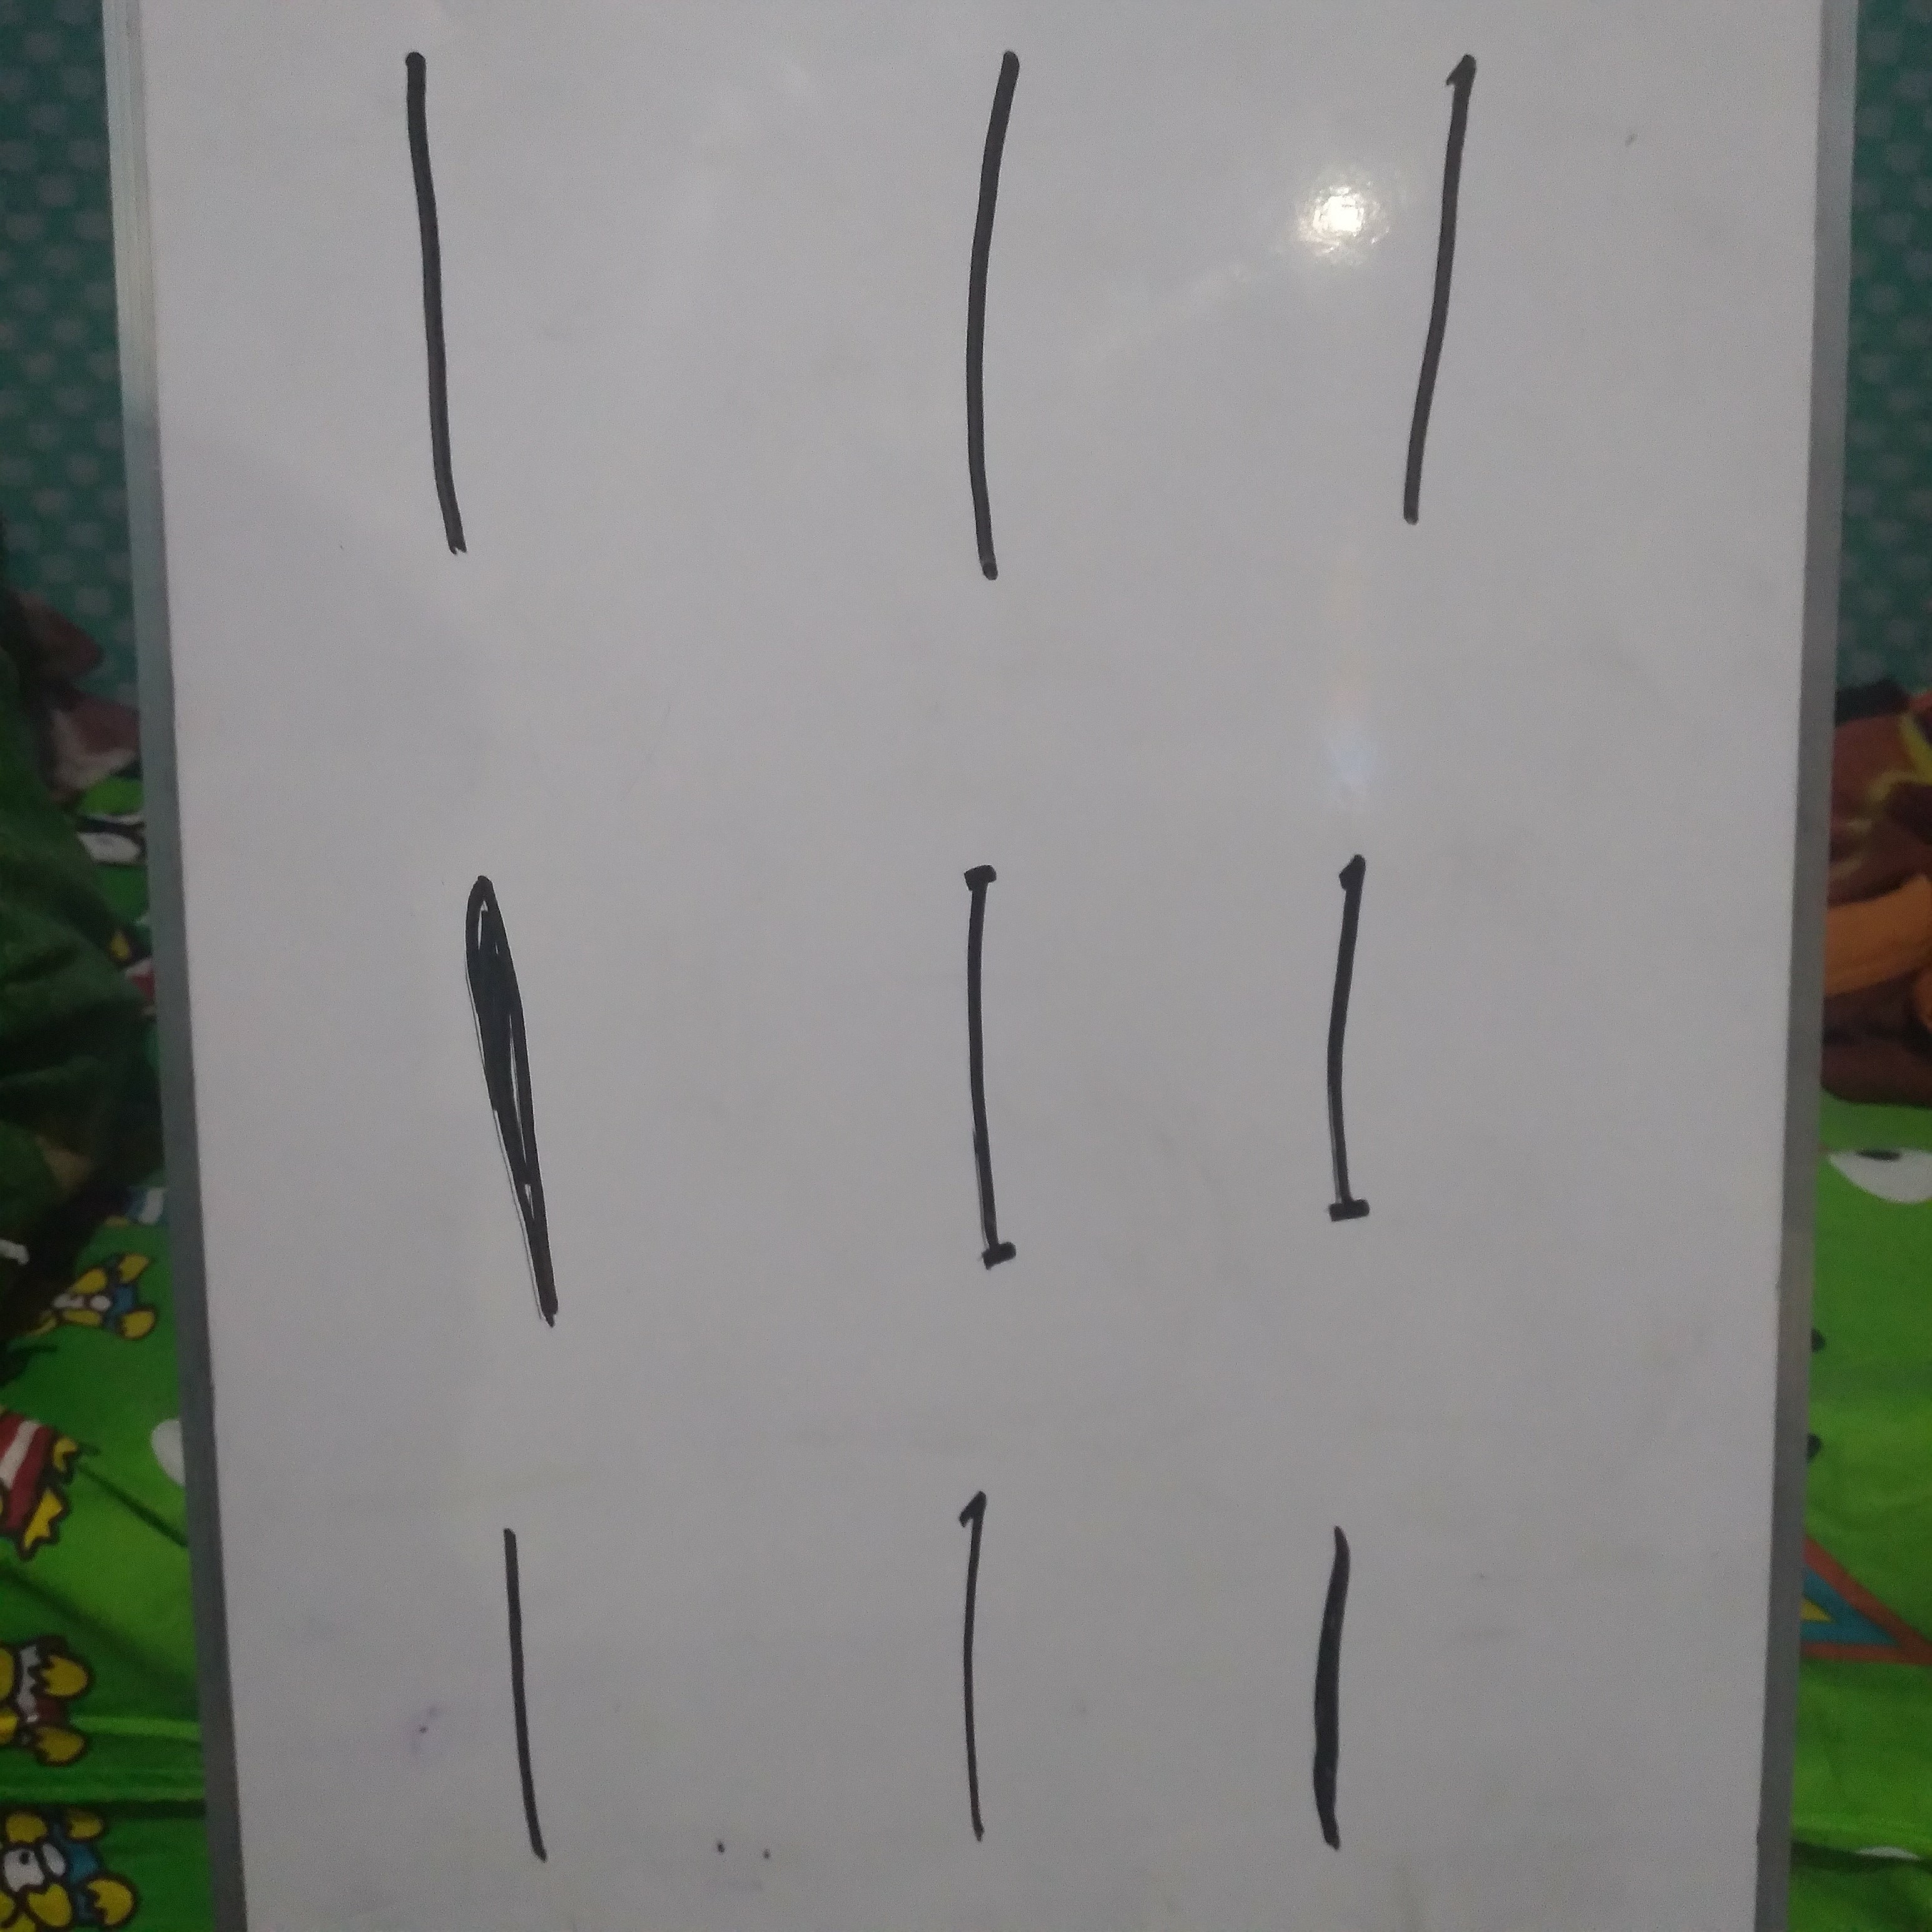num1: (1279, 758, 1403, 1298), (1261, 1391, 1385, 1932), (375, 31, 499, 572), (929, 40, 1052, 581), (1368, 35, 1491, 576), (459, 1374, 582, 1914), (452, 819, 576, 1360), (932, 787, 1055, 1328), (909, 1385, 1032, 1926)
